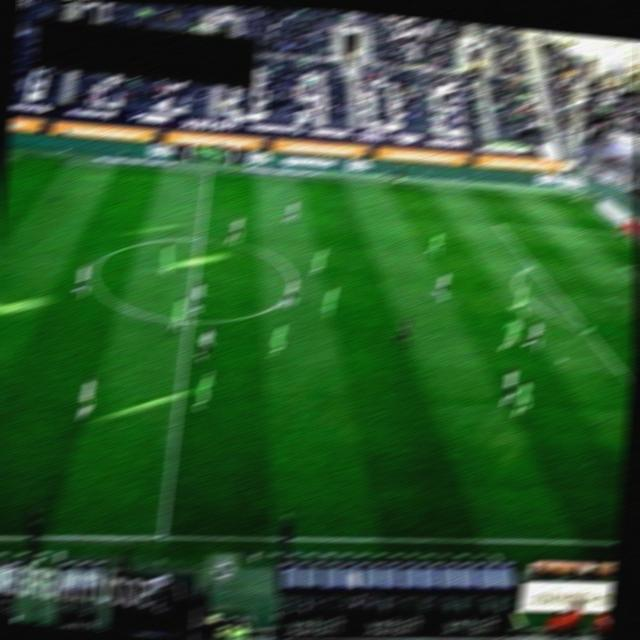bigarea_top_inner: (488, 218, 504, 231)
bigarea_top_outter: (614, 226, 629, 239)
bottom_arc_area_intersection: (578, 325, 593, 337)
corner: (570, 193, 587, 204)
halfcircle_bottom: (181, 317, 196, 328)
halfcircle_top: (193, 232, 208, 244)
midline_bottom_intersection: (153, 529, 169, 545)
midline_top_intersection: (201, 164, 216, 176)
smallarea_top_inner: (613, 259, 630, 272)
top_arc_area_intersection: (525, 262, 541, 273)
